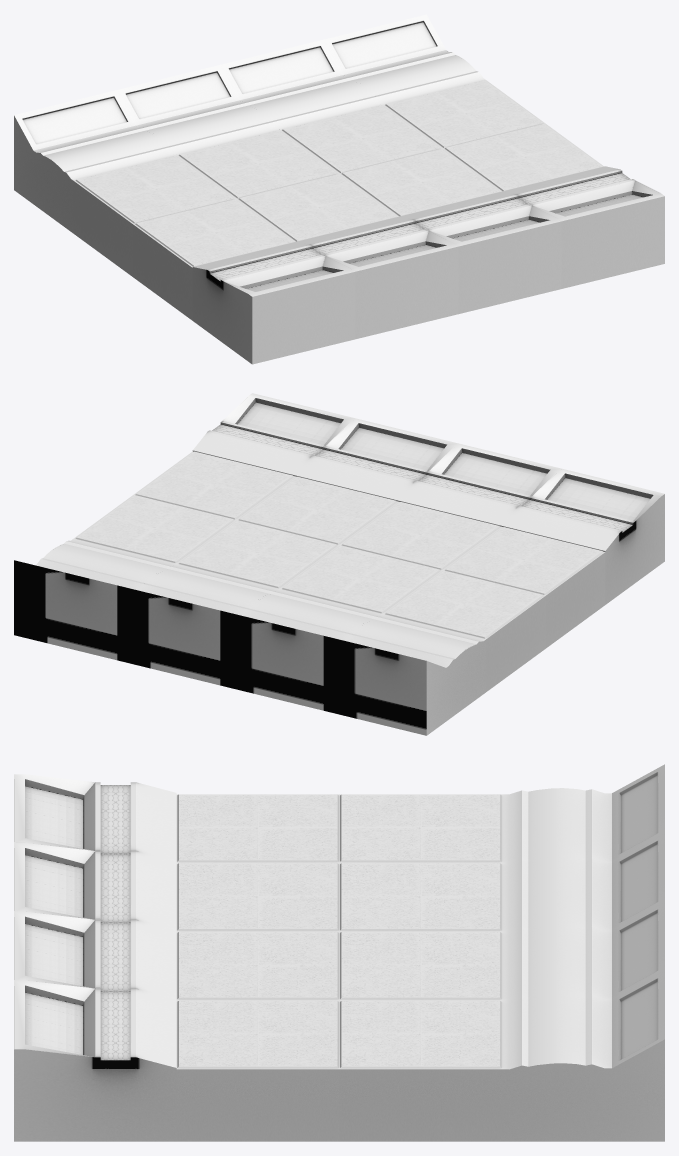
File: WallSolid_4_2.fbx
3 views of the same model, one above another, from view 1: azimuth 30°, elevation 25°; view 2: azimuth 150°, elevation 25°; view 3: azimuth 270°, elevation 25° (orthographic). The views are drawn at different scales.
Visible parts, largest first — view 1: Wall_solid_4_2; view 2: Wall_solid_4_2; view 3: Wall_solid_4_2.
Part boxes in pixels (bbox=[...]): Wall_solid_4_2: bbox=[14, 14, 664, 364]; Wall_solid_4_2: bbox=[14, 393, 664, 735]; Wall_solid_4_2: bbox=[14, 764, 664, 1141].
Size of the model in its own units: 4 by 0.6947 by 4.
